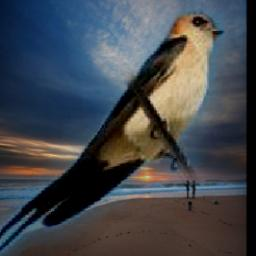Swallow: (0, 11, 226, 256)
